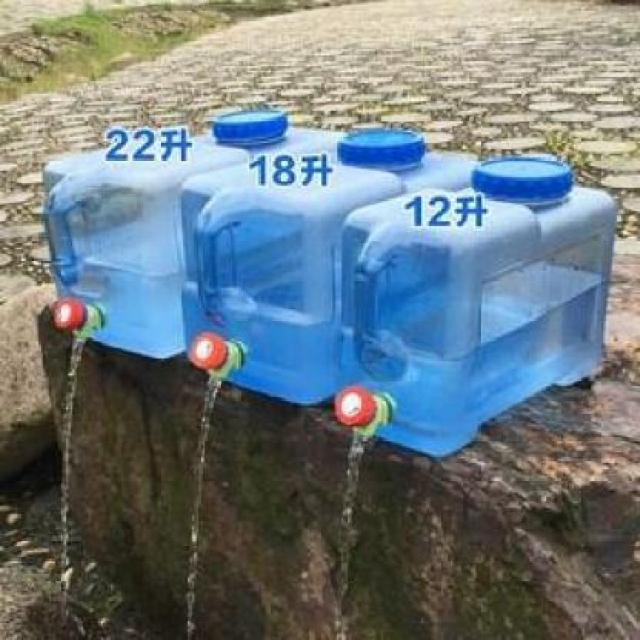coolerbottle: (333, 154, 614, 462)
